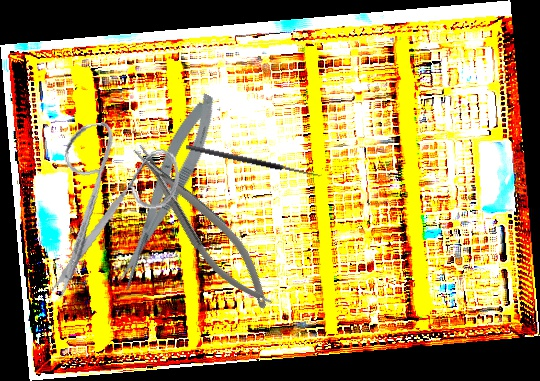Hook Surgical: (185, 137, 324, 180)
Iris Scissors: (20, 109, 198, 302)
Micro Scissor: (102, 88, 228, 294)
Needle Holder: (125, 131, 282, 320)
